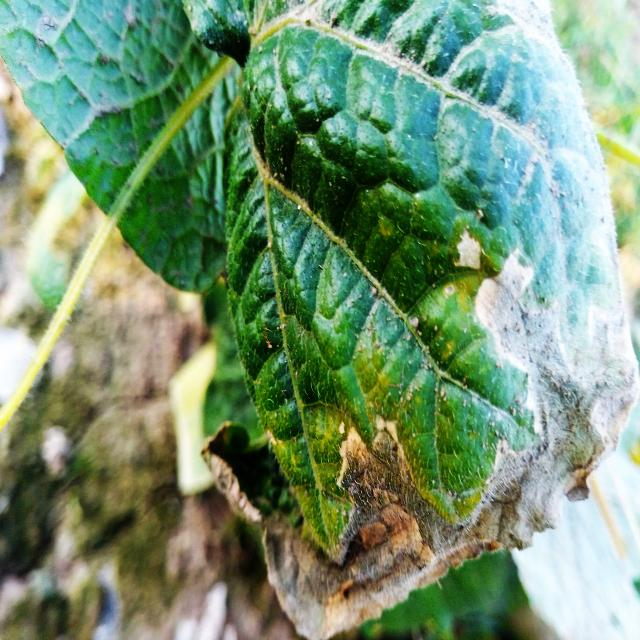Gummy-Stem-Blight: (262, 251, 640, 640)
